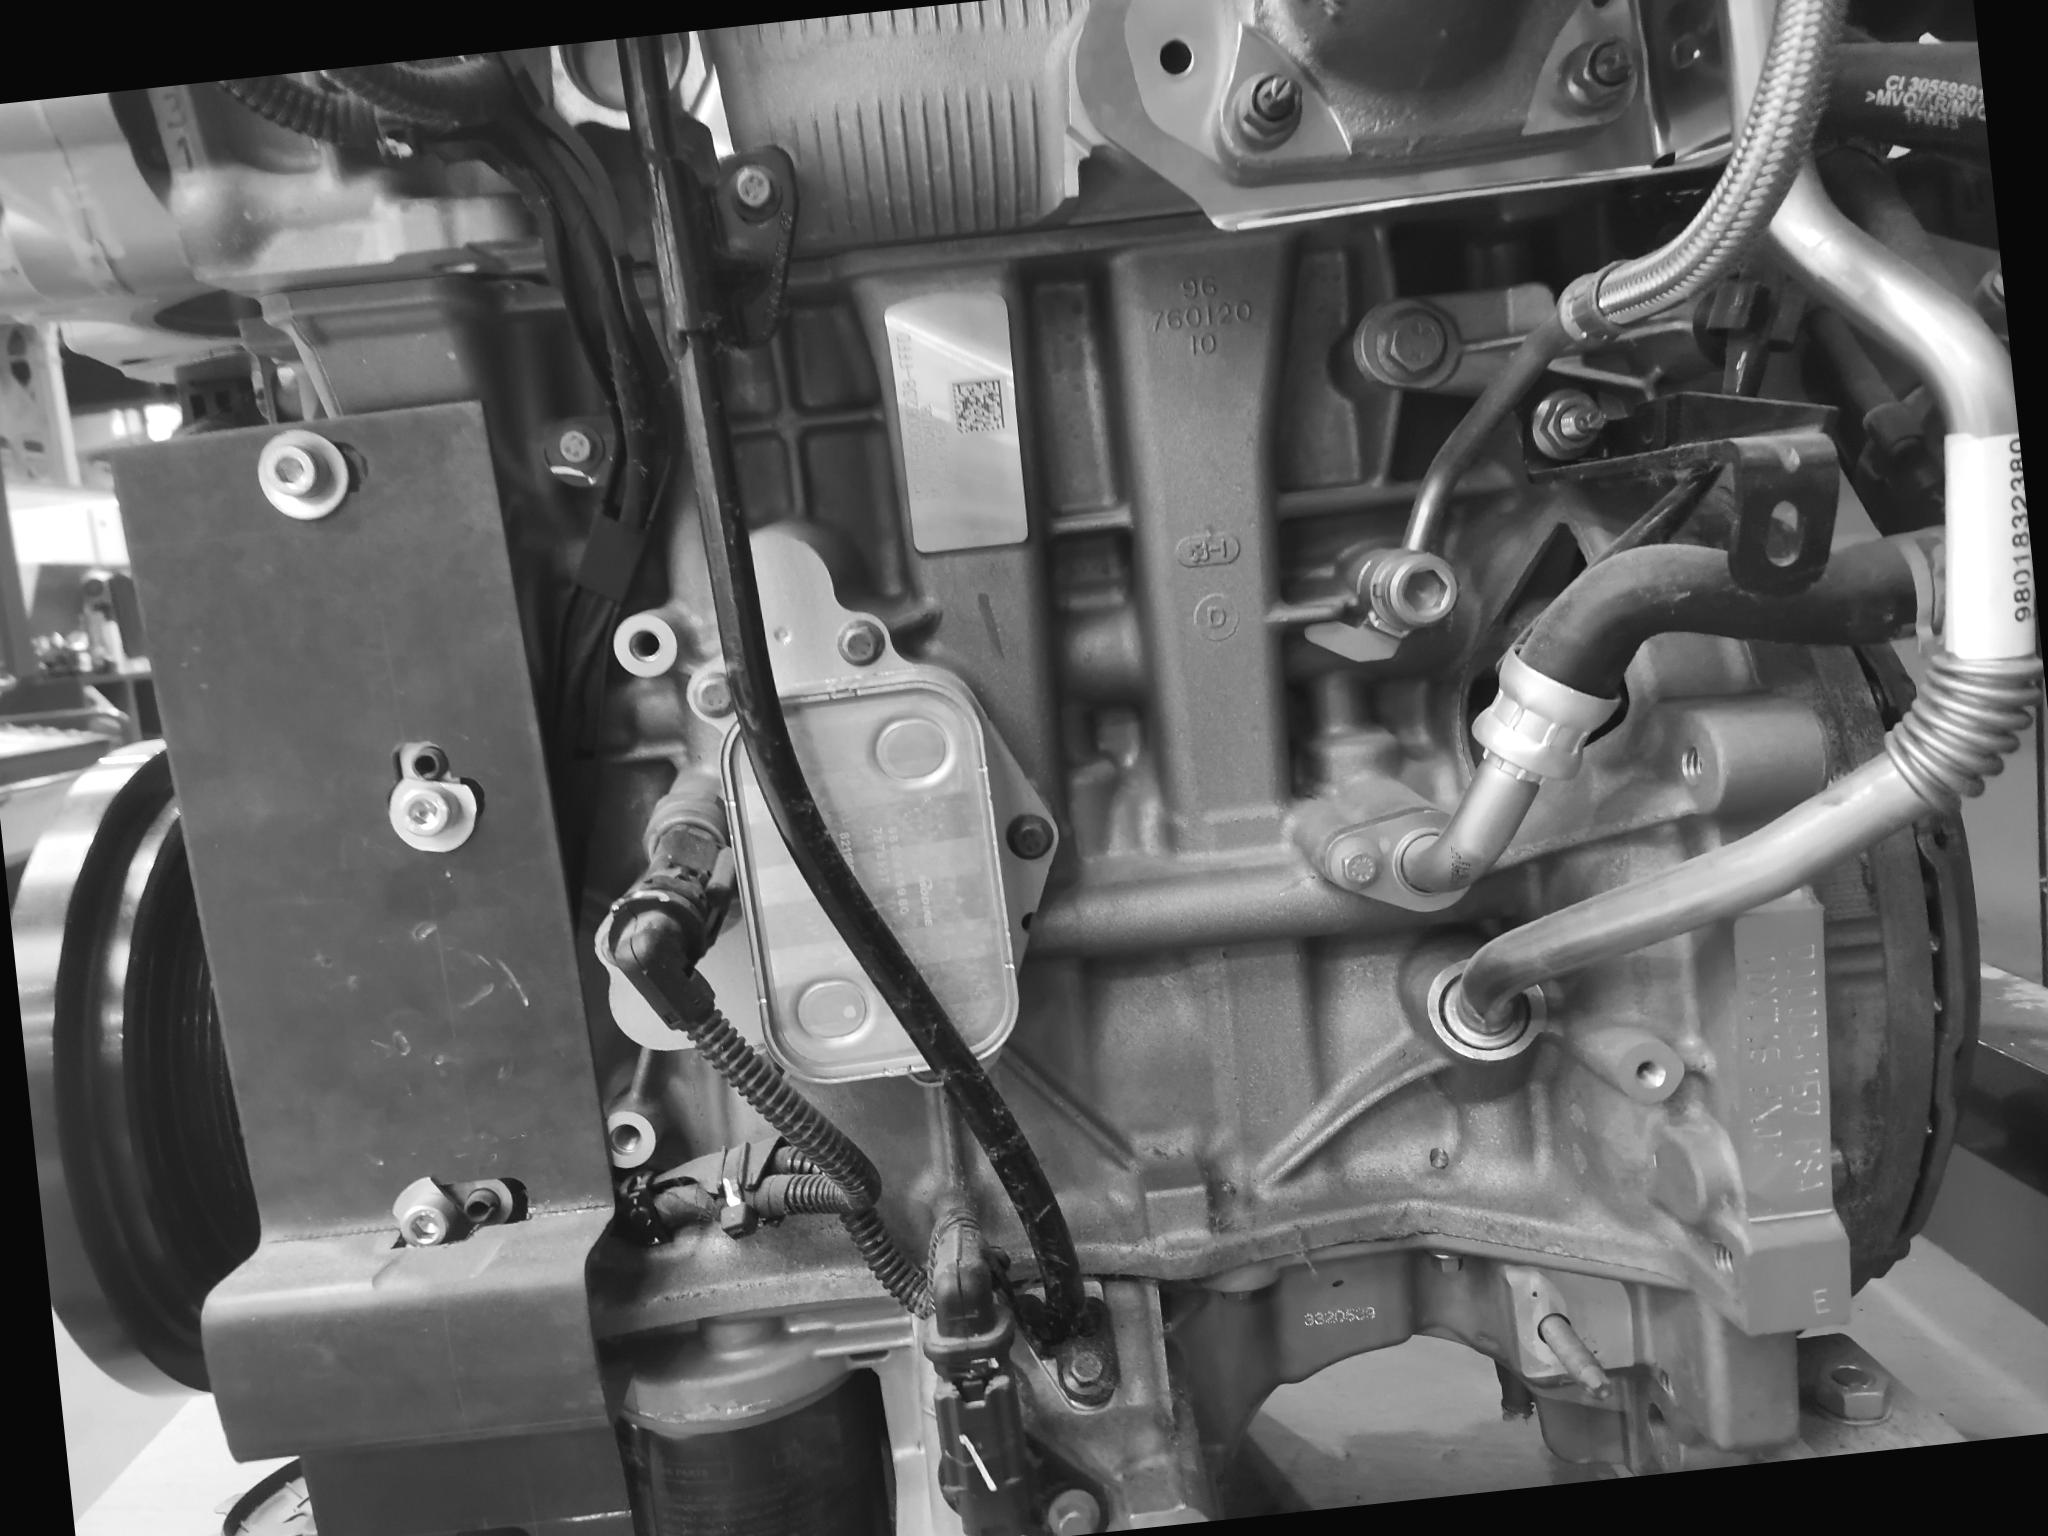allen: (250, 431, 342, 520), (1376, 544, 1466, 632), (390, 778, 458, 844), (390, 1197, 456, 1255)
hexagonal: (1374, 303, 1461, 390), (685, 668, 742, 724), (726, 160, 780, 215), (1001, 808, 1056, 863), (1335, 839, 1387, 892), (834, 618, 884, 668), (1064, 1342, 1114, 1392), (552, 423, 600, 470)
